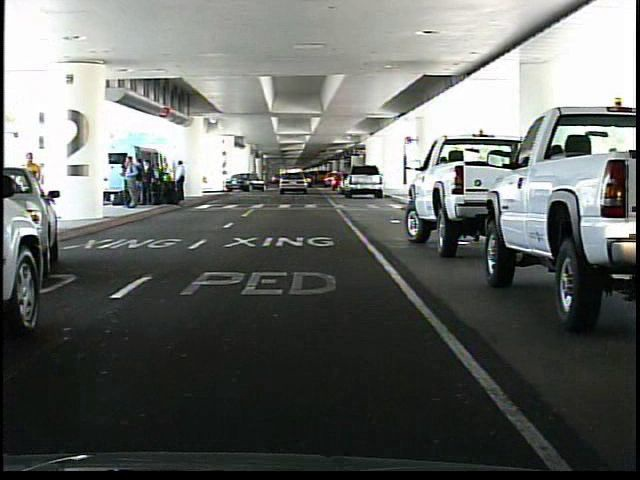person: (5, 148, 47, 237)
